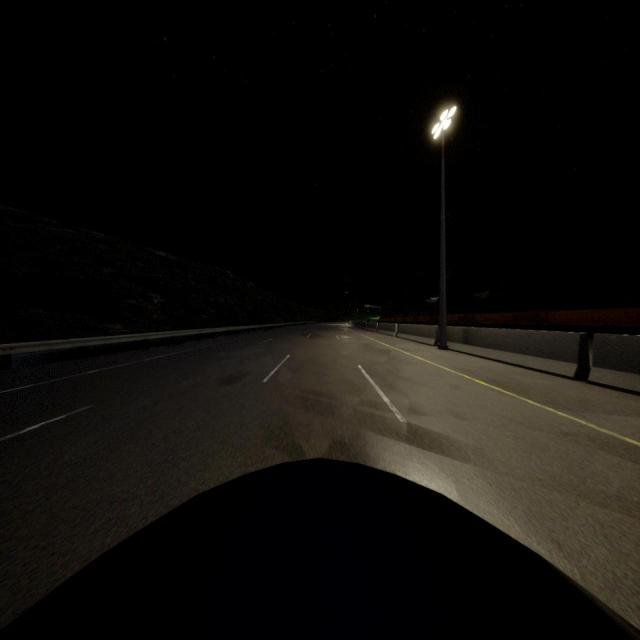Vehicle: (0, 460, 640, 640)
